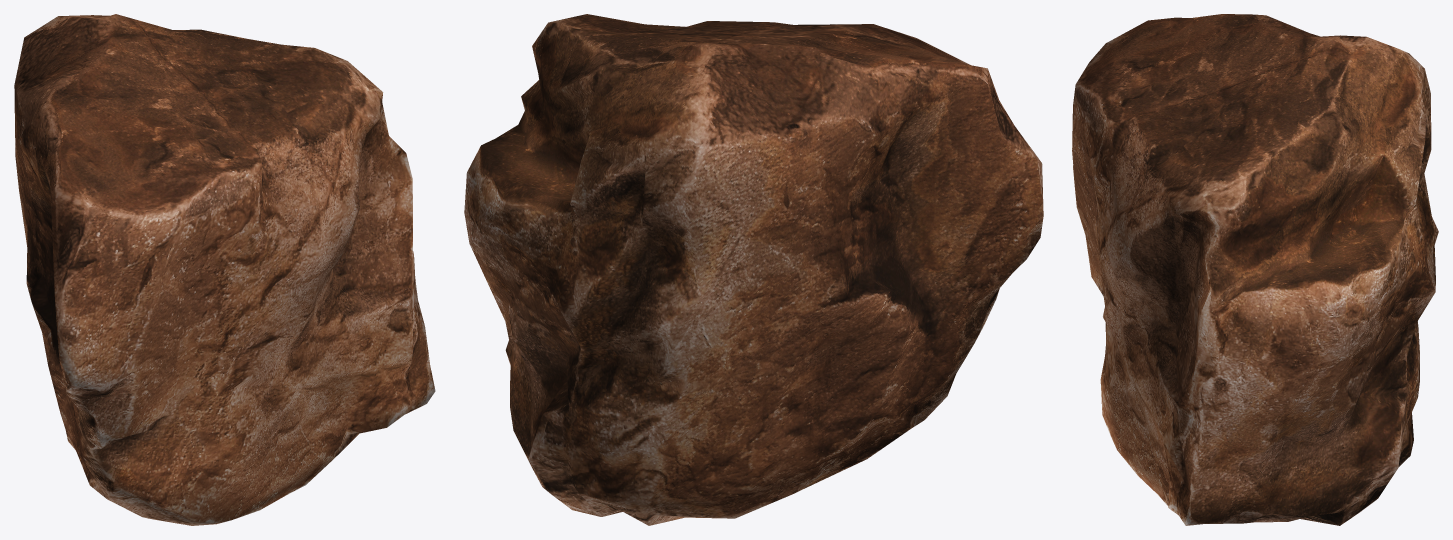
File: rock3.obj
The picture shows the model from 3 angles, left to right: view 1: azimuth 30°, elevation 25°; view 2: azimuth 150°, elevation 25°; view 3: azimuth 270°, elevation 25°; orthographic projection. The views are drawn at different scales.
Parts seen in each view (by area): view 1: Rock_03_LOD0_Rock_03_LOD0.001; view 2: Rock_03_LOD0_Rock_03_LOD0.001; view 3: Rock_03_LOD0_Rock_03_LOD0.001.
Part boxes in pixels (x1=…): Rock_03_LOD0_Rock_03_LOD0.001: x1=14, y1=14, x2=435, y2=525; Rock_03_LOD0_Rock_03_LOD0.001: x1=464, y1=14, x2=1043, y2=525; Rock_03_LOD0_Rock_03_LOD0.001: x1=1072, y1=14, x2=1438, y2=525.
Bounding box in the file's own units: 3.45 × 3.41 × 2.65.
Materials: 1 (1 with a texture image).
